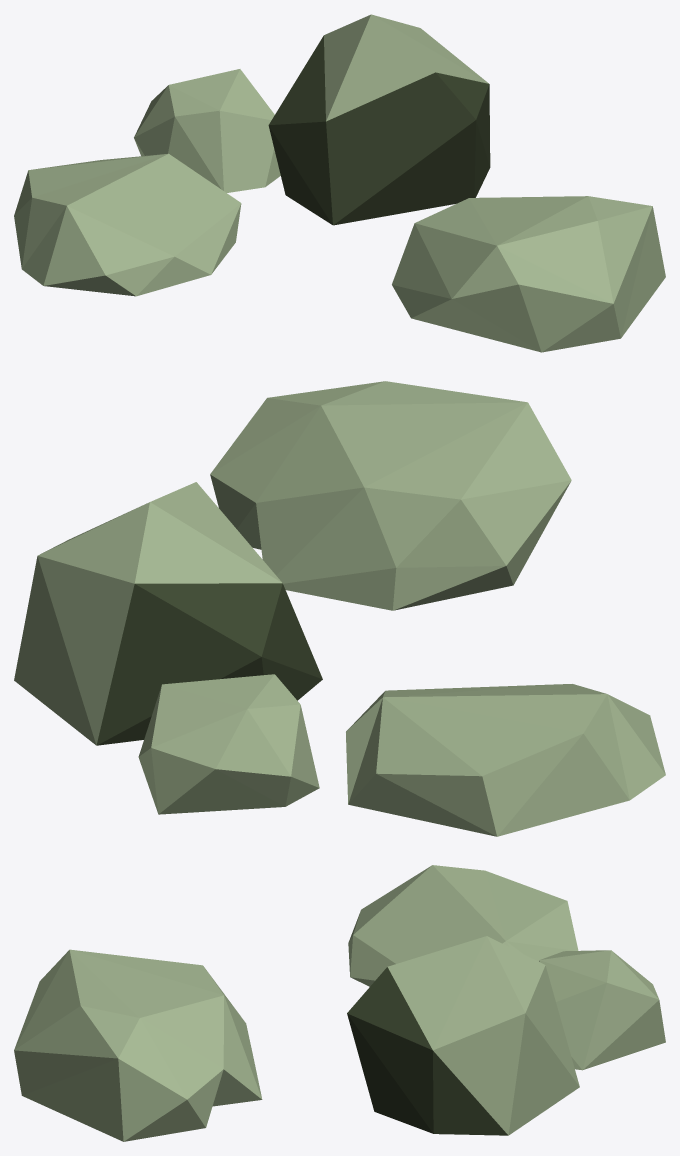
File: EA_Rock32.glb
3 views of the same model, one above another, from view 1: azimuth 30°, elevation 25°; view 2: azimuth 150°, elevation 25°; view 3: azimuth 270°, elevation 25° (orthographic). The views are drawn at different scales.
Parts seen in each view (by area): view 1: EA_Rock32; view 2: EA_Rock32; view 3: EA_Rock32.
Boxes of the visible parts, <box> form: EA_Rock32: <box>14,14,665,352</box>; EA_Rock32: <box>14,381,665,836</box>; EA_Rock32: <box>14,865,665,1141</box>.
Bounding box in the file's own units: 1.61 × 0.5027 × 1.93.
Materials: 1 (1 with a texture image).
